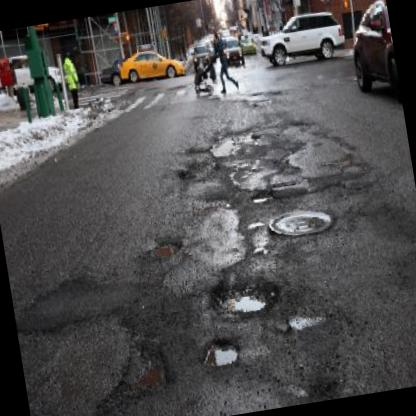pothole: (208, 274, 278, 322), (128, 345, 176, 397), (197, 330, 244, 372), (139, 233, 185, 263), (250, 188, 272, 204)
